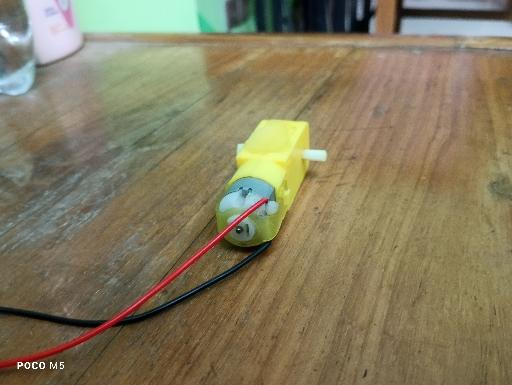Motor: (214, 118, 328, 248)
